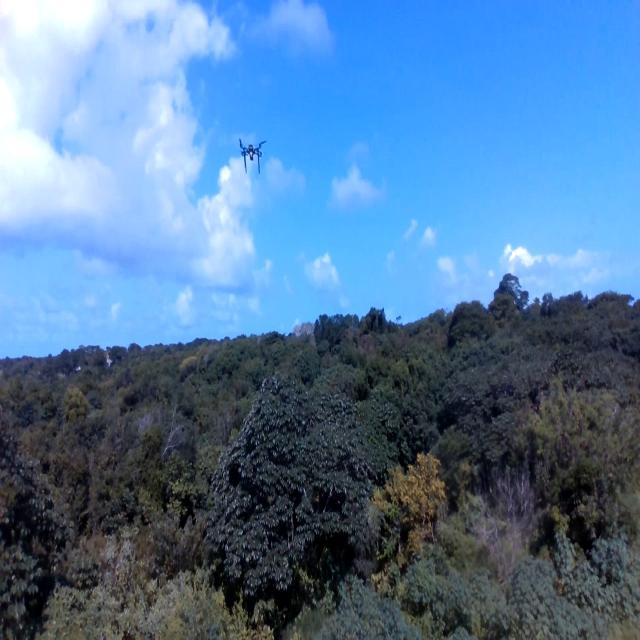-uav-: (231, 130, 273, 180)
